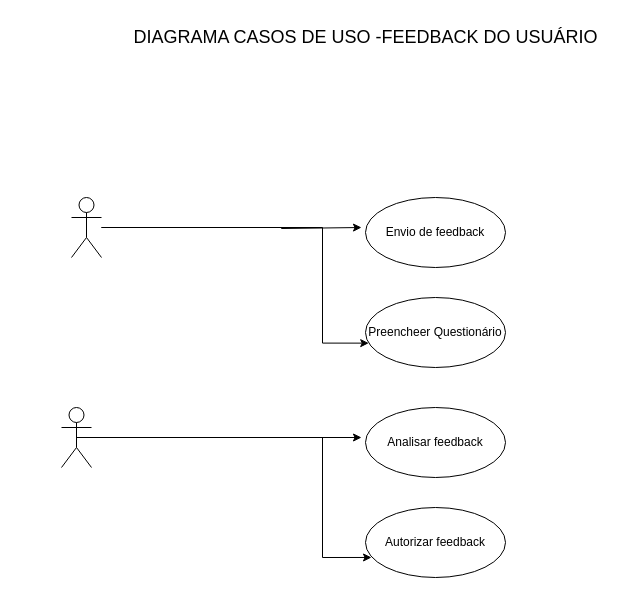
Some shapes in this 628 by 595 pixel diagram are drawn without their labels. Here are the shapes that lost their labels. From the top down, the centre of each, then its label:
the point at 86,227: Usuário
the point at 76,437: Admnistrador/Sistema
